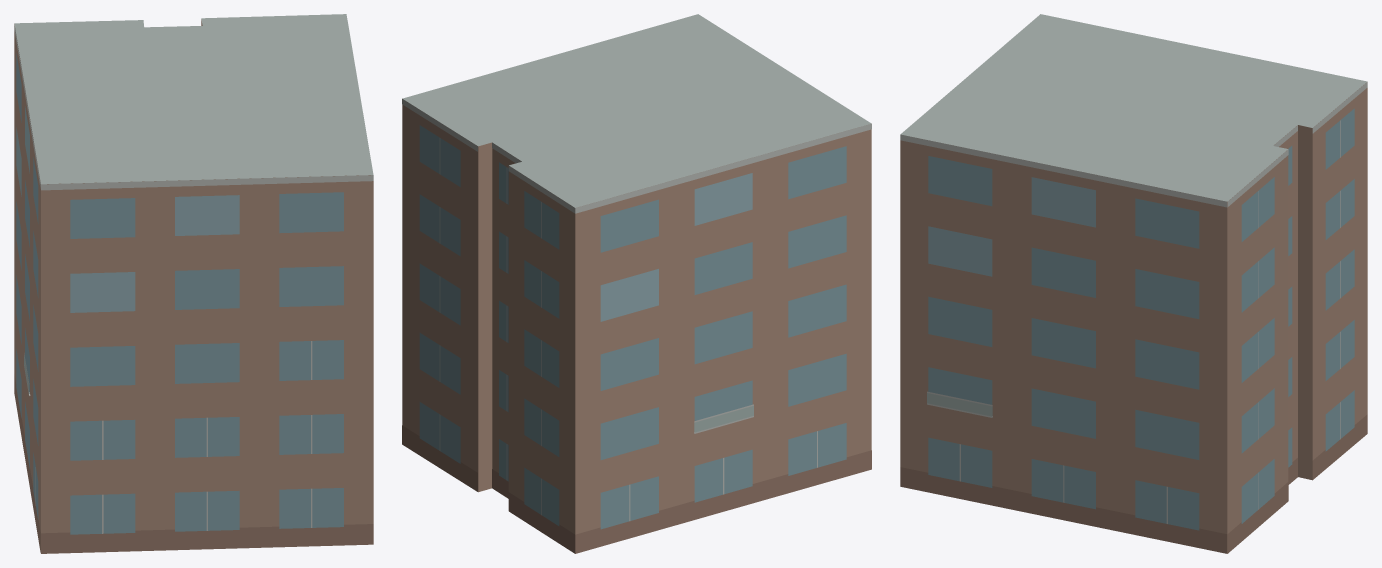
Rendered from survey-upis-32882566.glb.
The picture shows the model from 3 angles, left to right: view 1: azimuth 30°, elevation 25°; view 2: azimuth 150°, elevation 25°; view 3: azimuth 270°, elevation 25°; orthographic projection. The views are drawn at different scales.
Visible parts, largest first — view 1: survey-upis-32882566.tmp; view 2: survey-upis-32882566.tmp; view 3: survey-upis-32882566.tmp.
Boxes of the visible parts, x1,y1,x2,y2 form: survey-upis-32882566.tmp: (14,14,373,553); survey-upis-32882566.tmp: (402,14,871,553); survey-upis-32882566.tmp: (900,14,1367,553).
Size of the model in its own units: 16.81 by 14.7 by 17.69.
